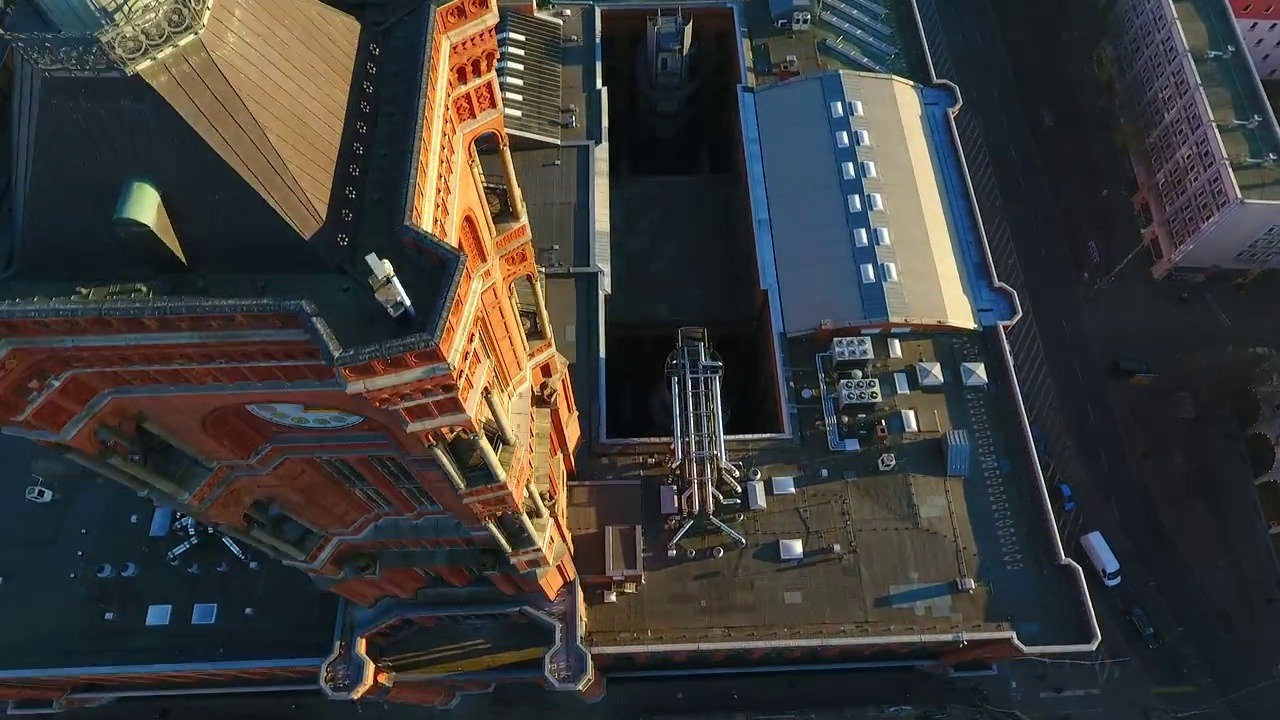van: (1078, 526, 1126, 590)
